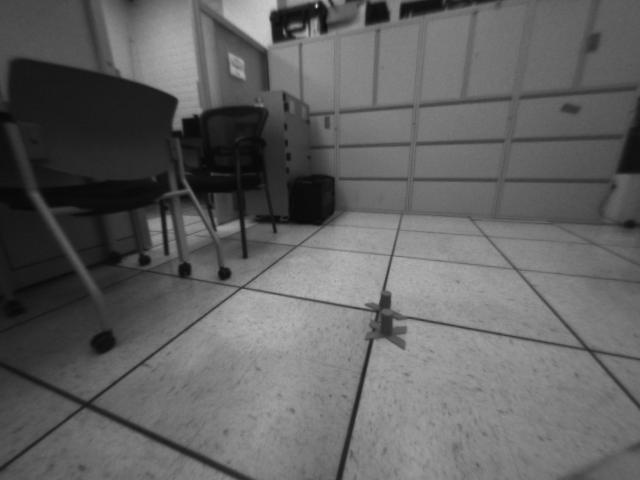X: (364, 308, 410, 352), (362, 289, 410, 321)
